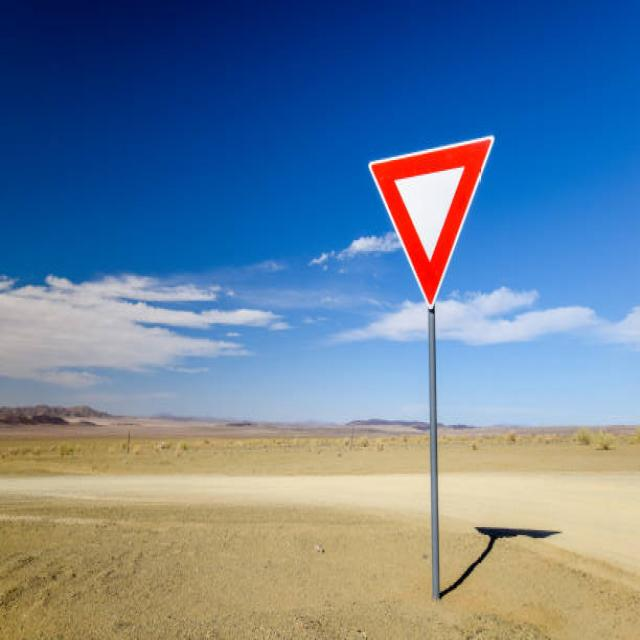give_way: (365, 130, 502, 304)
